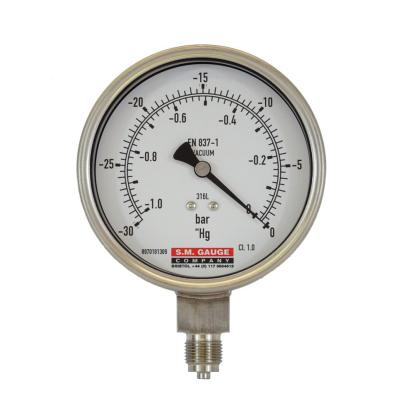needle: (206, 172, 266, 225)
